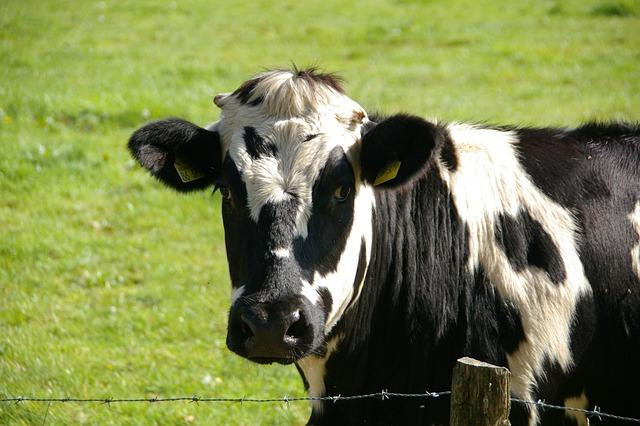Non_Gorille: (43, 10, 640, 423)
